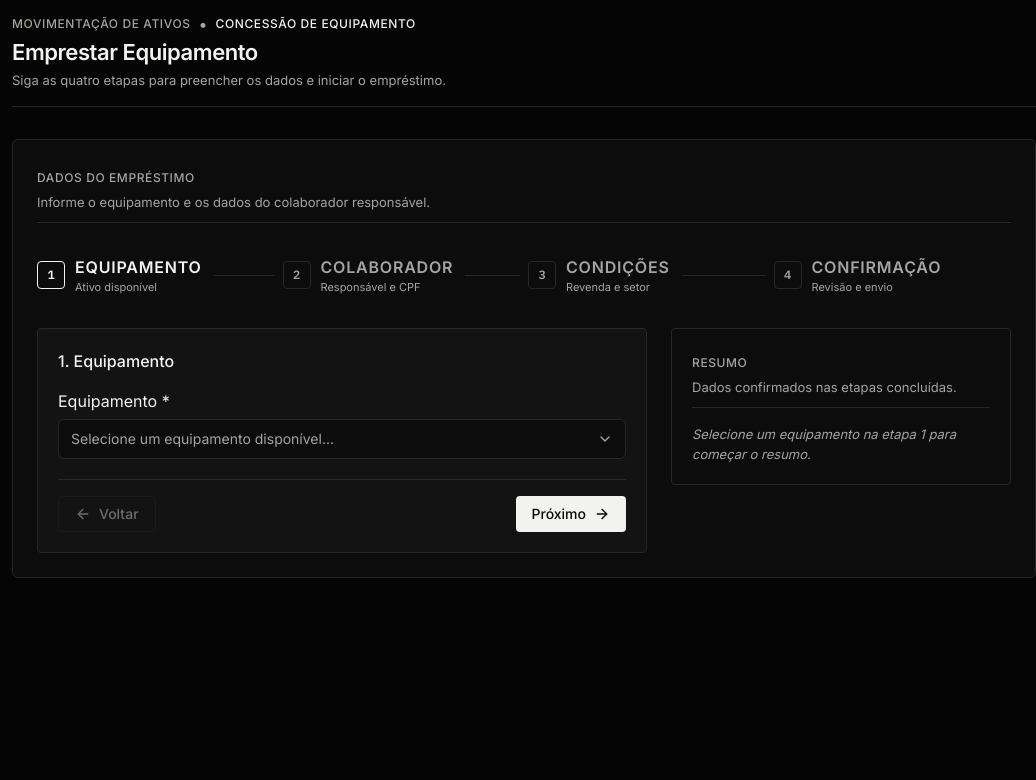
Test: LoanPage — assistente de 4 passos › o toggle "É pessoa jurídica" continua desmarcado por padrão
The width and height of the screenshot is (1036, 780).
Step 1. Click the button "Selecione um equipamento disponível..." → (203, 438), box [58, 418, 626, 458]
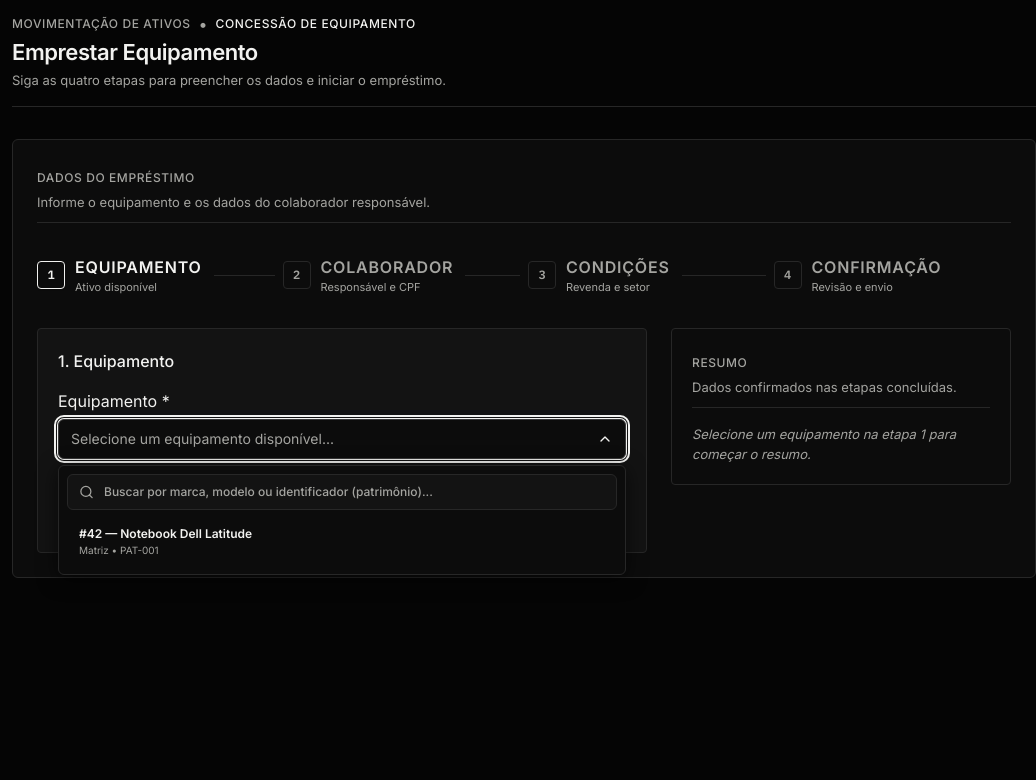
Step 2. Click the button "#42 — Notebook Dell Latitude Matriz • PAT-001" → (166, 533), box [67, 518, 613, 566]
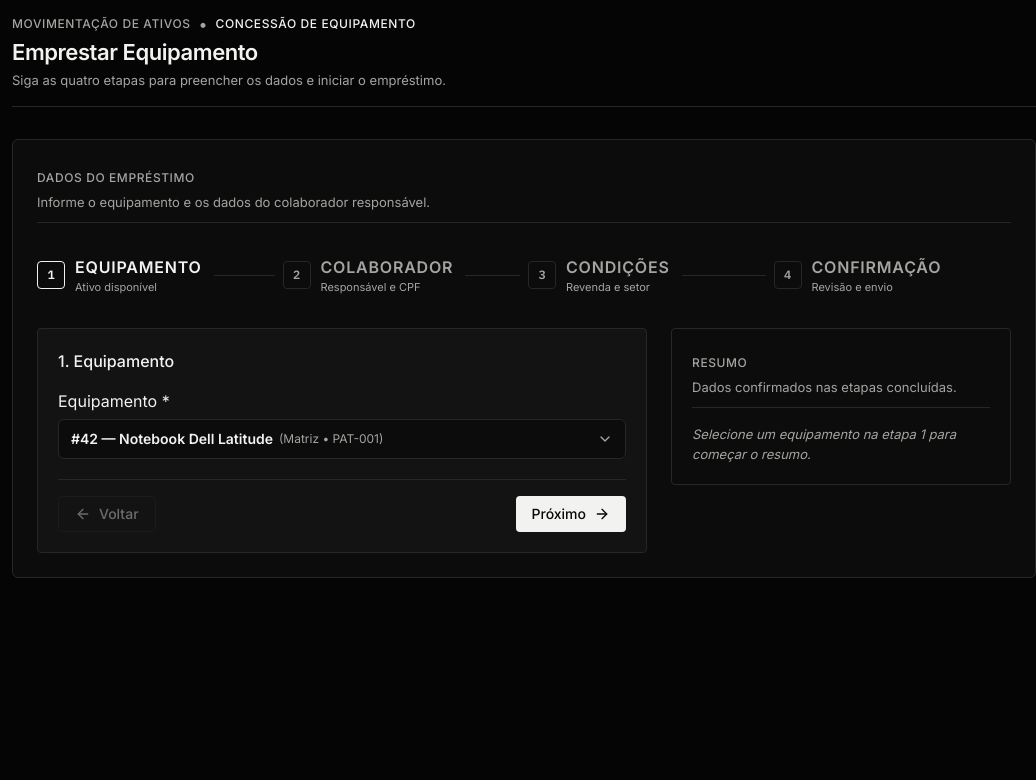
Step 3. Click the button "Próximo" → (571, 514), box [516, 496, 626, 532]
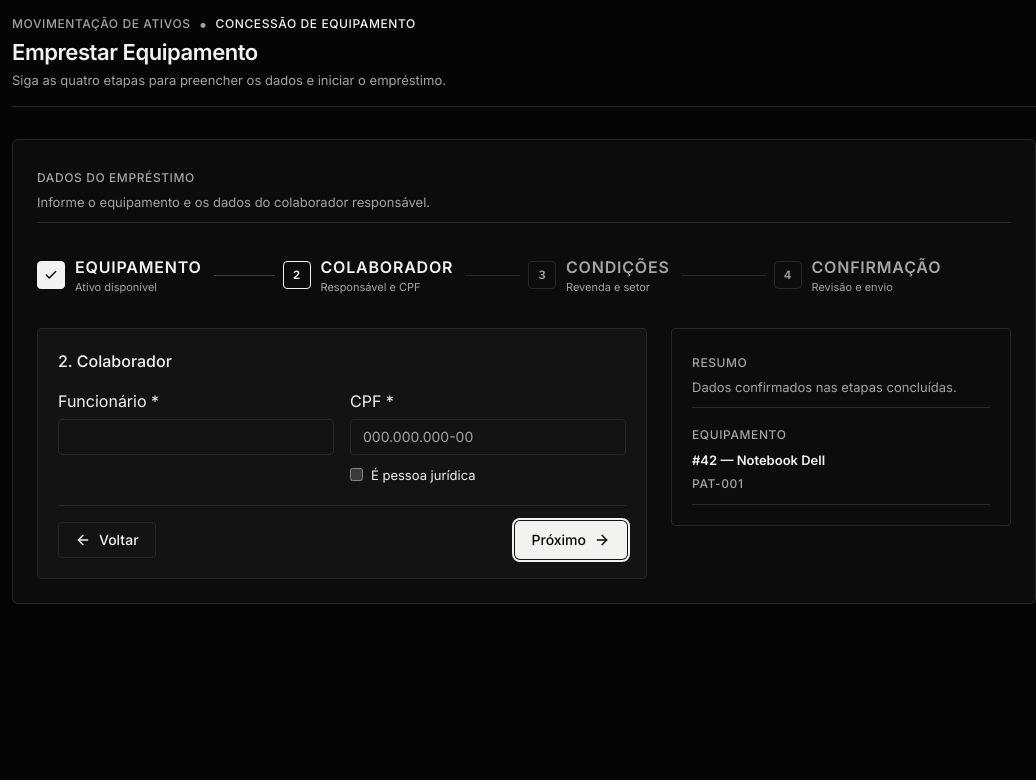
Check: the heading "2. Colaborador" is shown, box [58, 350, 172, 370]
Check: the checkbox is not checked, box [350, 468, 363, 481]
